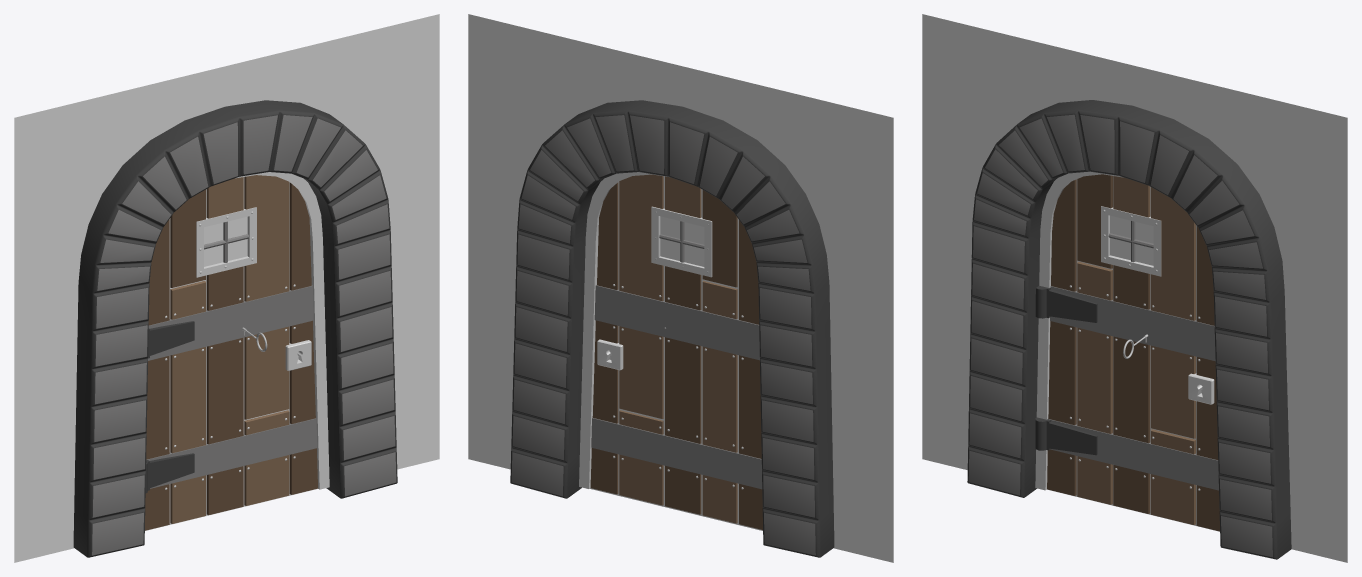
File: Door.fbx
The picture shows the model from 3 angles, left to right: view 1: azimuth 30°, elevation 25°; view 2: azimuth 150°, elevation 25°; view 3: azimuth 330°, elevation 25°; orthographic projection.
Parts seen in each view (by area): view 1: Plane, Дверной проем001, Дверь с замком!; view 2: Plane, Дверной проем001, Дверь с замком!; view 3: Plane, Дверной проем001, Дверь с замком!.
Part boxes in pixels (left/top/right/bottom): Plane: left=14, top=14, right=439, bottom=562; Дверной проем001: left=73, top=100, right=397, bottom=557; Дверь с замком!: left=145, top=172, right=329, bottom=530; Plane: left=468, top=14, right=893, bottom=562; Дверной проем001: left=510, top=100, right=834, bottom=557; Дверь с замком!: left=579, top=172, right=762, bottom=529; Plane: left=922, top=14, right=1347, bottom=562; Дверной проем001: left=967, top=100, right=1291, bottom=559; Дверь с замком!: left=1035, top=171, right=1219, bottom=531.
Bounding box in the file's own units: 300 × 301 × 50.46.
